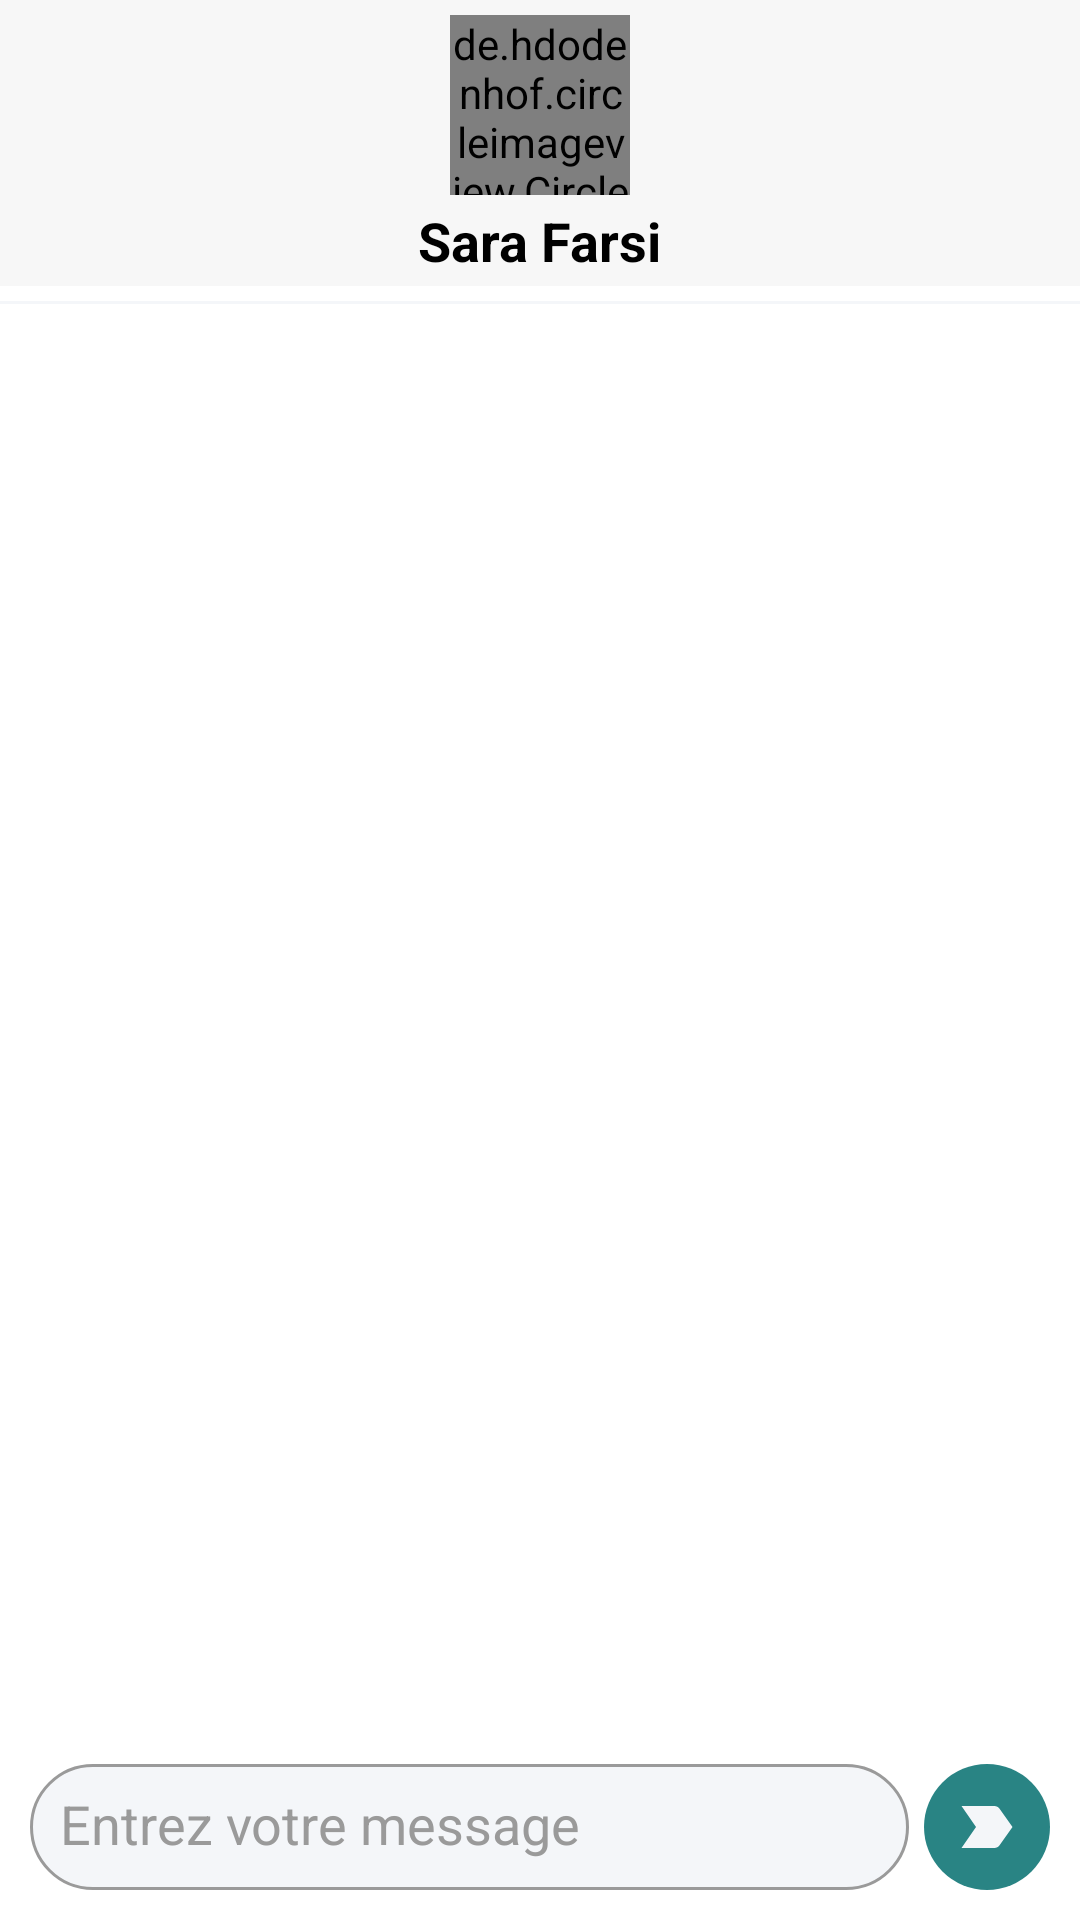

Icons on this 1080*1920 Android screen, each with the point to tap as (x=x, y=y):
label important: (x=987, y=1827)
